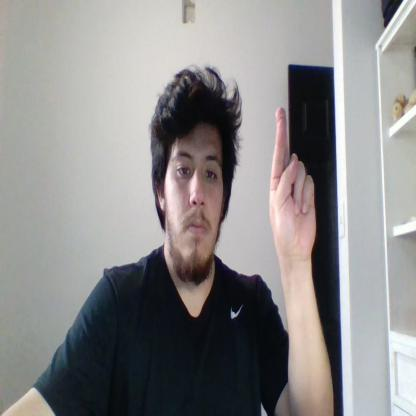R: (269, 106, 316, 255)
